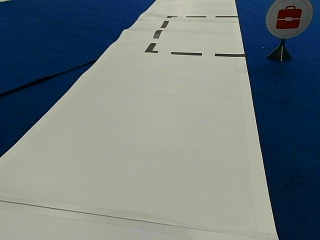company: (266, 0, 312, 37)
